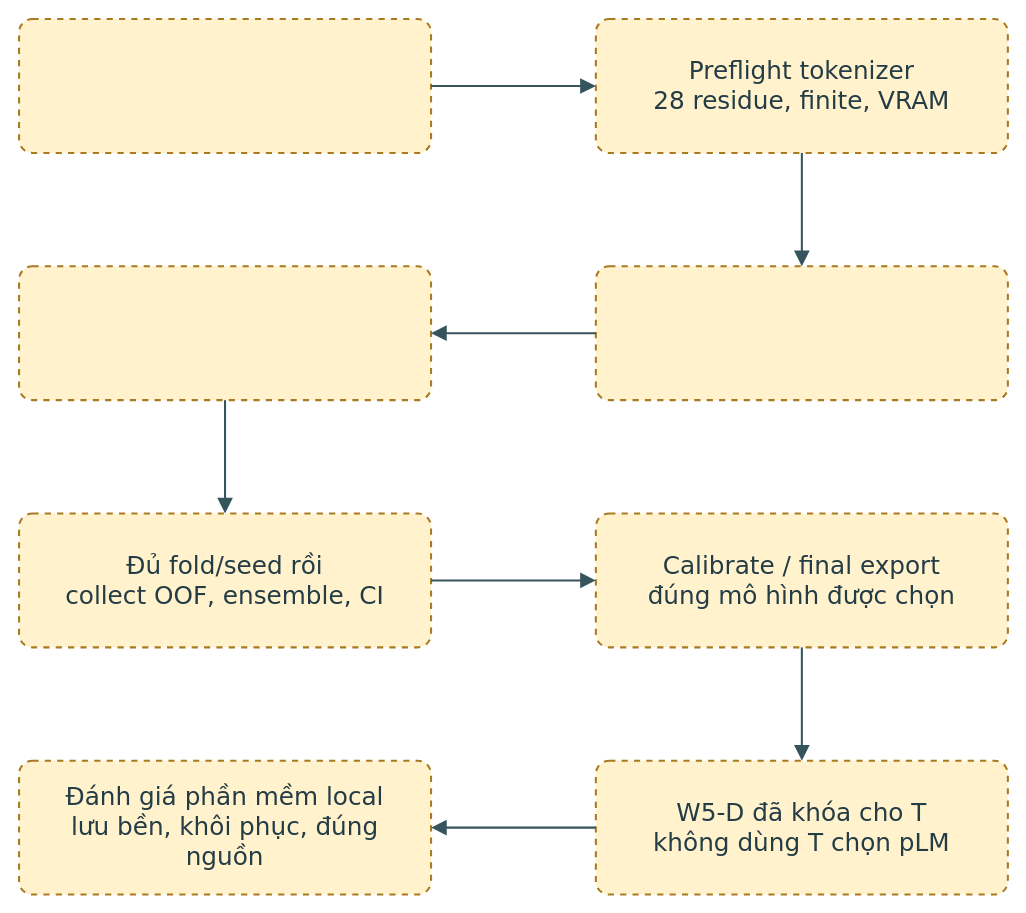
Image size: 1026x913. Some labels were removed from this diagram. The box of each missing label's shape, as (x1, y1, x2, y2) in pixels:
Frozen feature từng pLM Ridge/PCA64 làm head chung: (594, 265, 1008, 401)
Giữ data/protocol Pin code, runtime, weights: (18, 18, 432, 153)
Đối chứng ESM2-35M frozen và LoRA cùng runtime: (18, 265, 432, 401)
